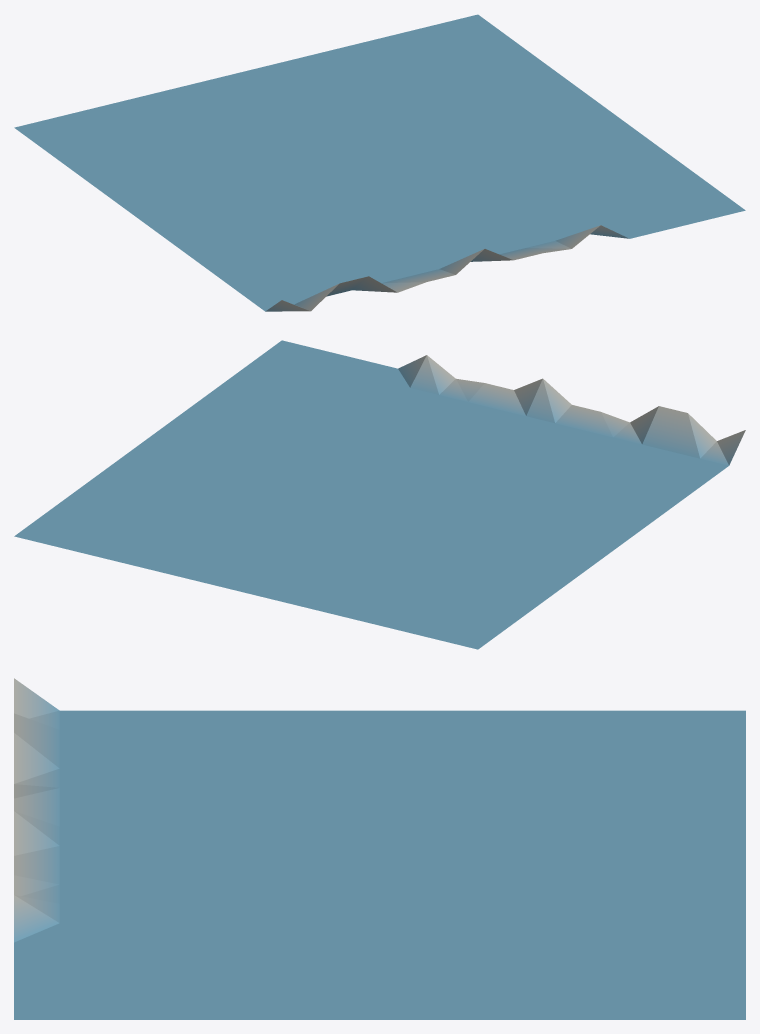
3 views of the same model, one above another, from view 1: azimuth 30°, elevation 25°; view 2: azimuth 150°, elevation 25°; view 3: azimuth 270°, elevation 25° (orthographic). The views are drawn at different scales.
Bounding box in the file's own units: 32 × 1.73 × 32.
